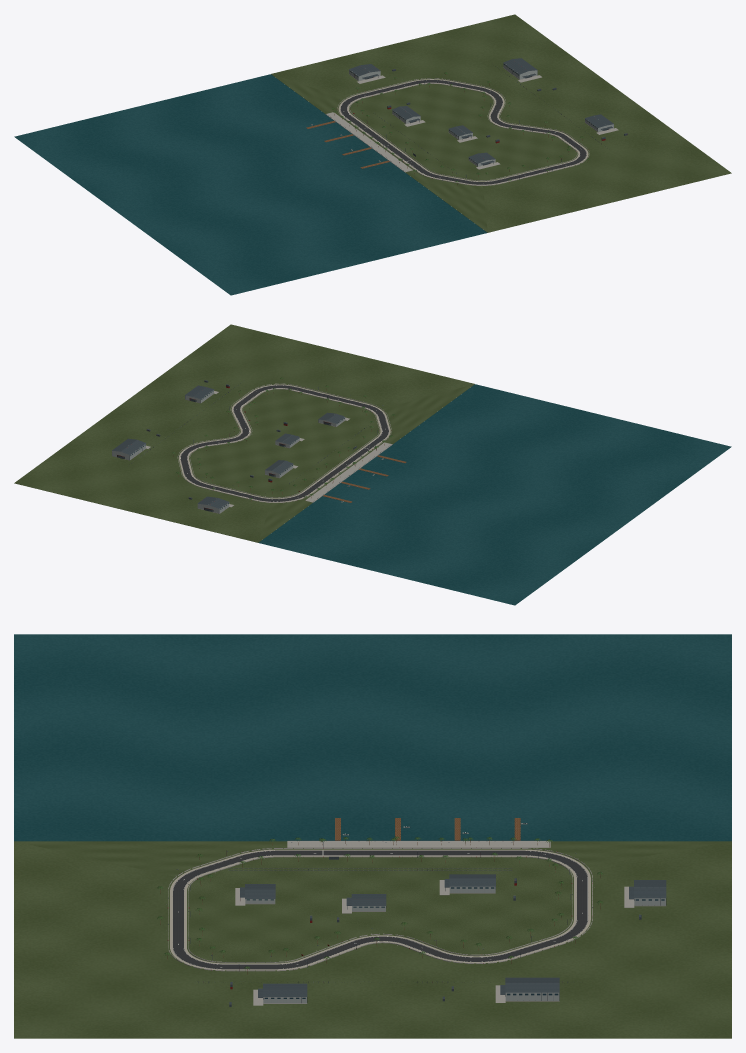
Rendered from harbor.glb.
The picture shows the model from 3 angles, top to bottom: view 1: azimuth 30°, elevation 25°; view 2: azimuth 150°, elevation 25°; view 3: azimuth 270°, elevation 25°; orthographic projection. The views are drawn at different scales.
Visible parts, largest first — view 1: Harbor_Water, Harbor_Land, Harbor_Modular_Atlas, Harbor_Concrete, Harbor_Asphalt, Harbor_Runoff; view 2: Harbor_Water, Harbor_Land, Harbor_Modular_Atlas, Harbor_Concrete, Harbor_Asphalt, Harbor_Runoff; view 3: Harbor_Water, Harbor_Land, Harbor_Modular_Atlas, Harbor_Concrete, Harbor_Asphalt, Harbor_Runoff.
Part boxes in pixels (x1,y1,x2,y2): Harbor_Water: (14,74,487,295); Harbor_Land: (271,14,731,232); Harbor_Modular_Atlas: (306,58,627,184); Harbor_Concrete: (325,68,618,185); Harbor_Asphalt: (340,80,586,184); Harbor_Runoff: (338,79,588,185); Harbor_Water: (258,384,731,605); Harbor_Land: (14,324,474,542); Harbor_Modular_Atlas: (112,377,406,513); Harbor_Concrete: (112,383,392,513); Harbor_Asphalt: (180,385,388,501); Harbor_Runoff: (178,384,390,502); Harbor_Water: (14,634,731,841); Harbor_Land: (14,841,731,1038); Harbor_Modular_Atlas: (157,818,666,1006); Harbor_Concrete: (166,841,665,1005); Harbor_Asphalt: (173,850,587,969); Harbor_Runoff: (170,849,590,970).
Bounding box in the file's own units: 960 × 13.05 × 720.
Materials: 9 (5 with a texture image).
